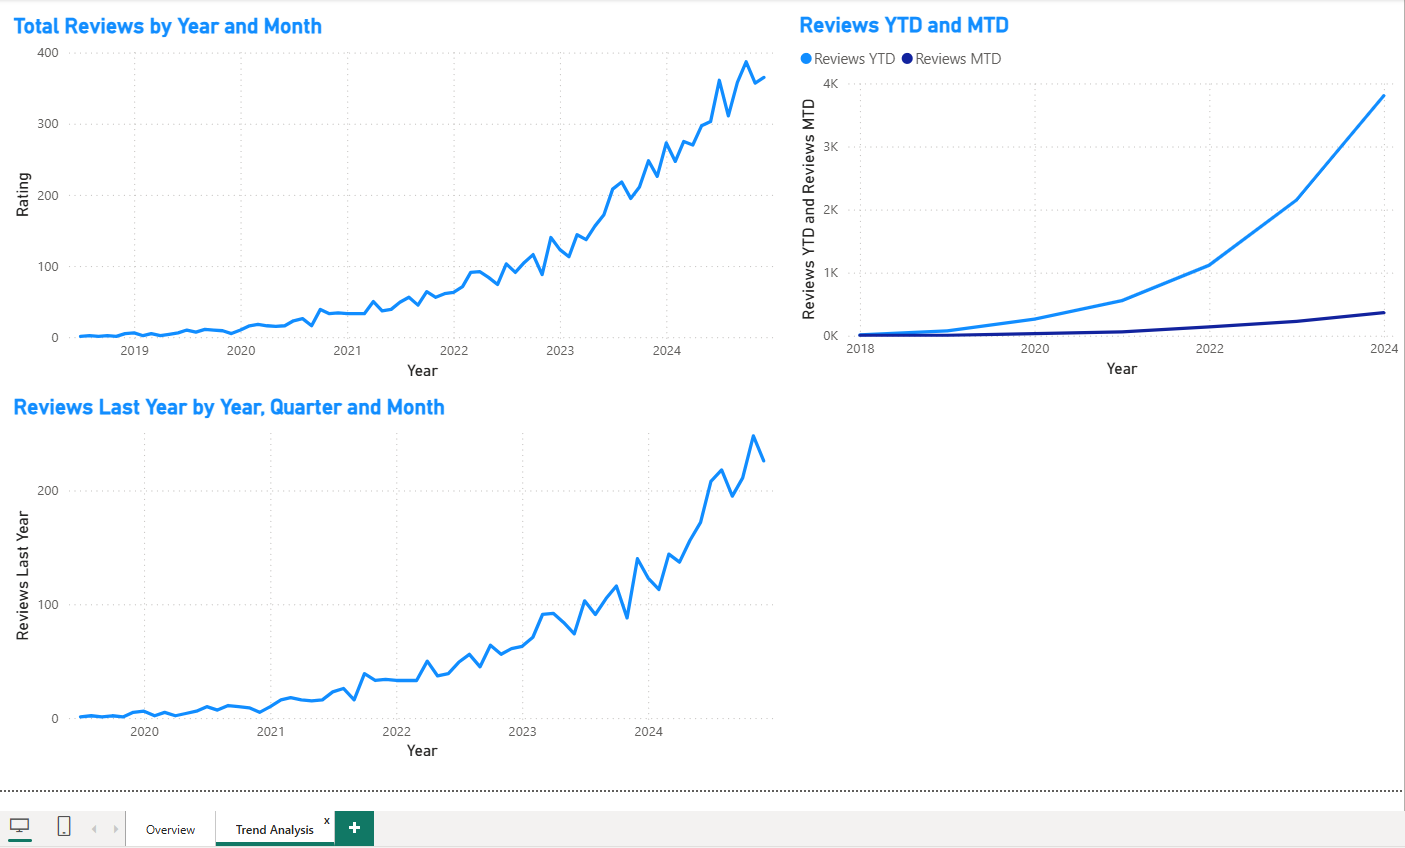

What the dashboard file says about the page in this screenshot:
{"tool":"powerbi","page":{"name":"Trend Analysis","canvas":[1280,720],"ordinal":1},"visuals":[{"type":"lineChart","title":"Total Reviews by Year and Month","fields":{"Category":["dim_date.Date.Variation.Date Hierarchy.Year","dim_date.Date.Variation.Date Hierarchy.Month"],"Y":["reviews.Total Reviews"]},"box":[9.3,12.4,706.2,338.1],"z":0},{"type":"lineChart","fields":{"Y":["reviews.Reviews Last Year"],"Category":["dim_date.Date.Variation.Date Hierarchy.Year","dim_date.Date.Variation.Date Hierarchy.Quarter","dim_date.Date.Variation.Date Hierarchy.Month","dim_date.Date.Variation.Date Hierarchy.Day"]},"box":[9,360,706,338],"z":1000},{"type":"lineChart","title":"Reviews YTD and MTD","fields":{"Category":["dim_date.Date.Variation.Date Hierarchy.Year","dim_date.Date.Variation.Date Hierarchy.Quarter","dim_date.Date.Variation.Date Hierarchy.Month","dim_date.Date.Variation.Date Hierarchy.Day"],"Y":["reviews.Reviews YTD","reviews.Reviews MTD"]},"box":[725,12,555,338],"z":1001}]}

Visuals, with their boxes on the page's 1280x720 design canvas (x1, y1, x2, y2). These are canvas units, not pixel positions in the 1405x848 screenshot, which may show the page scaled, cropped or inside an application window:
"Total Reviews by Year and Month" lineChart: <region>9, 12, 716, 350</region>
lineChart - reviews.Reviews Last Year x dim_date.Date.Variation.Date Hierarchy.Year: <region>9, 360, 715, 698</region>
"Reviews YTD and MTD" lineChart: <region>725, 12, 1280, 350</region>
